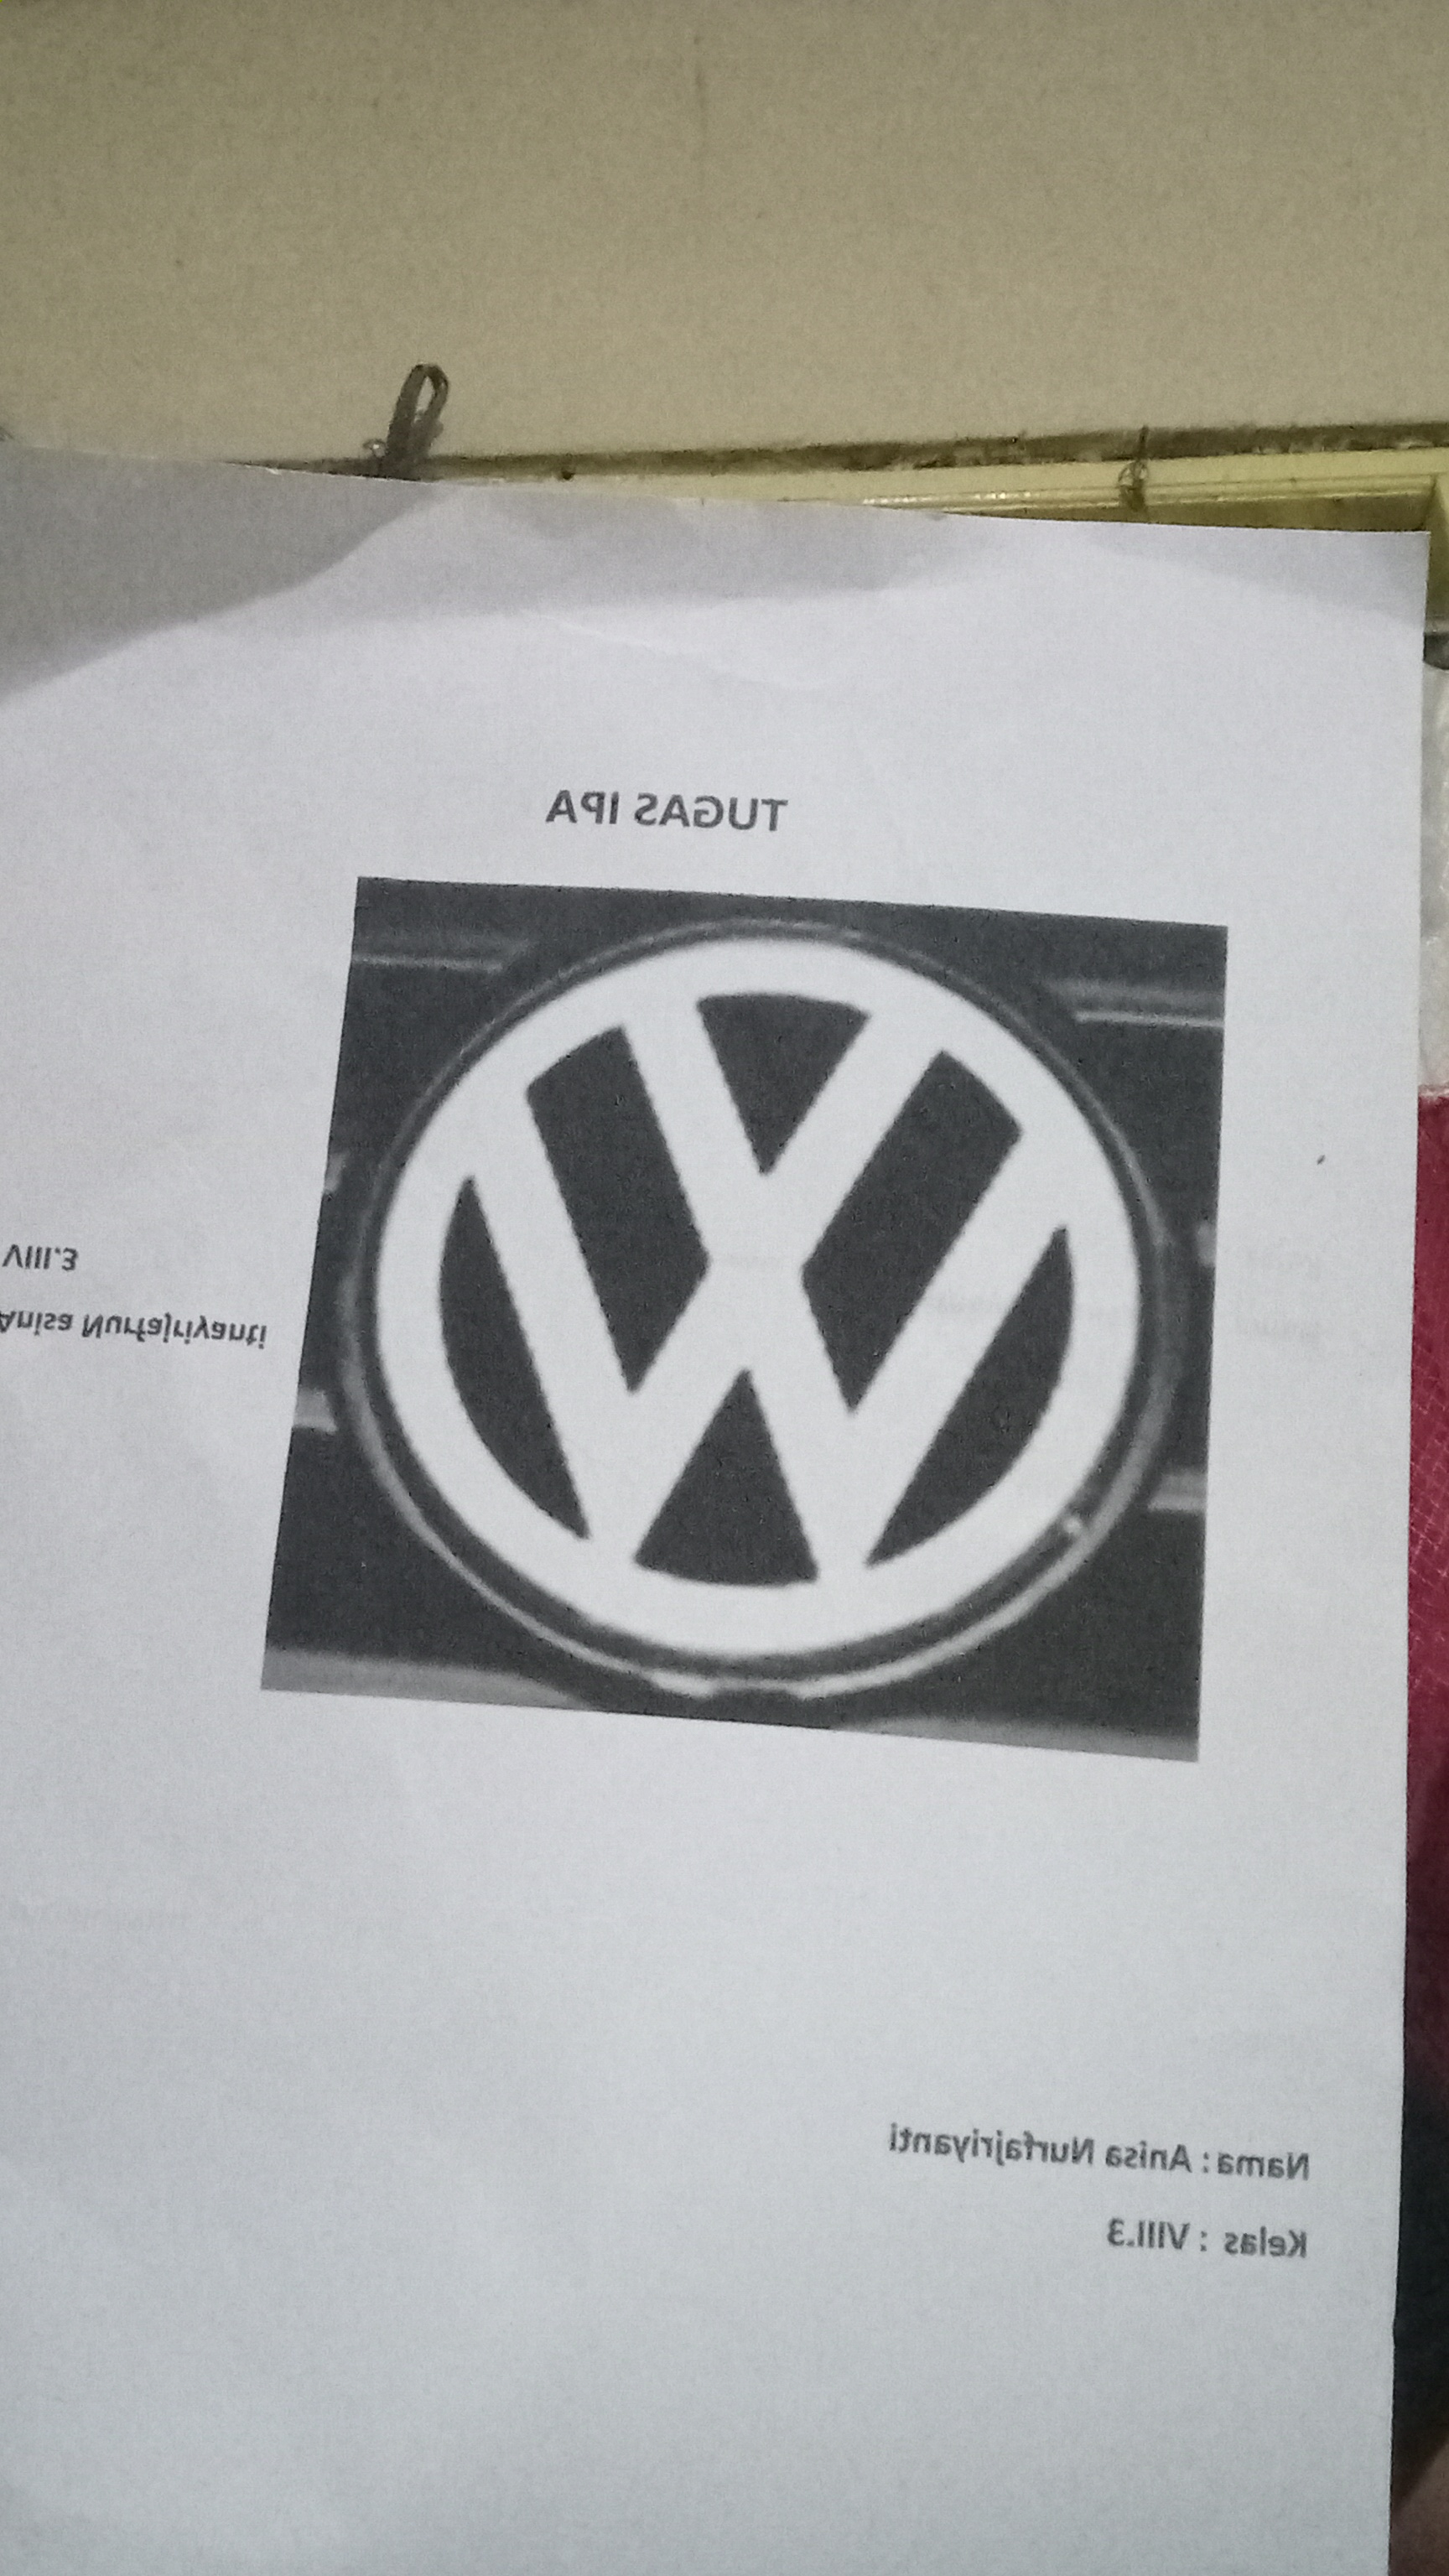Volkswagen: (357, 904, 1168, 1713)
